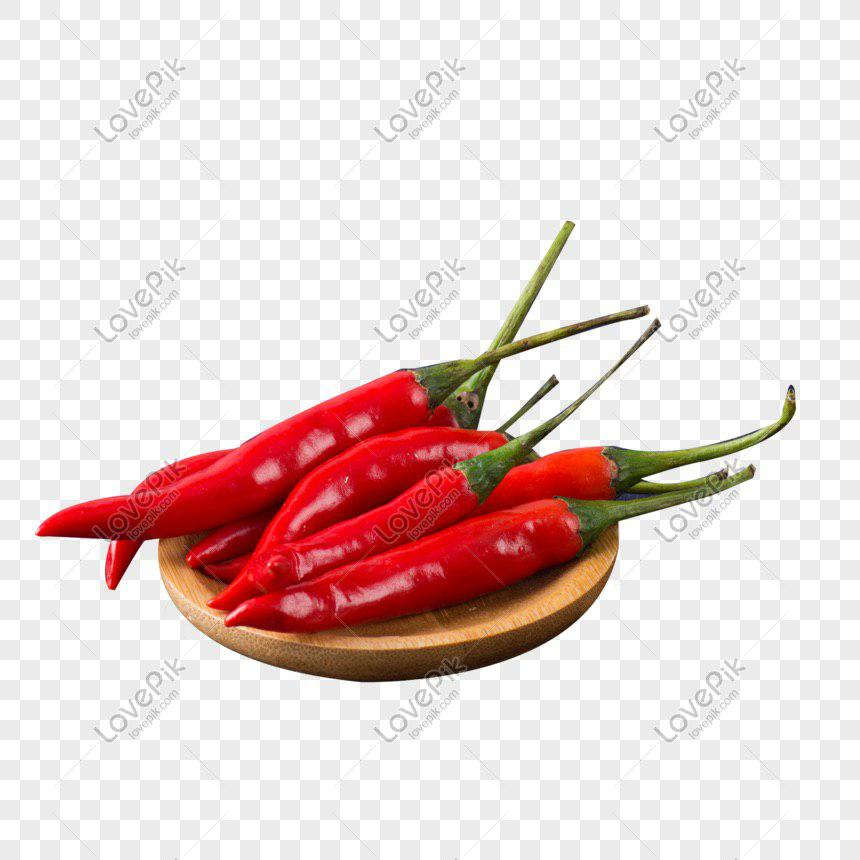lada merah: (40, 357, 448, 564), (227, 497, 618, 657), (230, 440, 529, 606), (467, 440, 647, 516)
